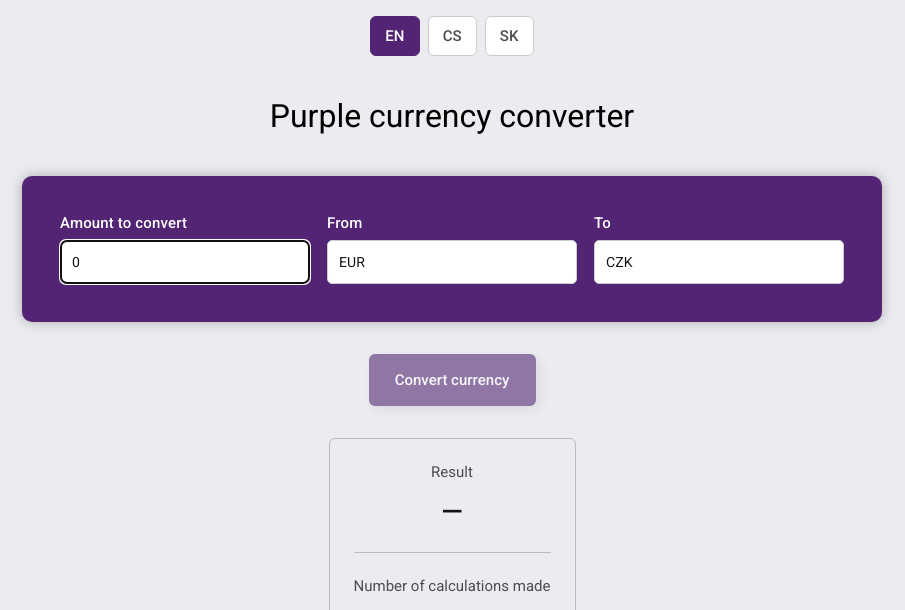
it: the in-flight announcement and the error placements (§10) › renders an upstream failure as the page-level banner — OUTSIDE the form
This screenshot has width=905, height=610.
Step 1. Type "100" into the field labelled "Amount to convert" → x=185, y=262, box [60,240,310,284]
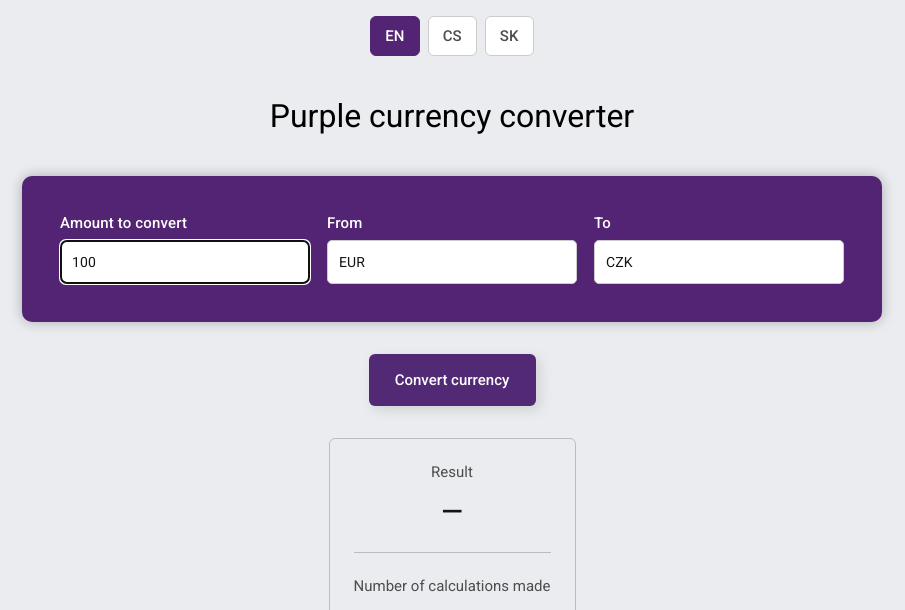
Step 2. Click the button "Convert currency" → x=452, y=380, box [368,354,536,406]
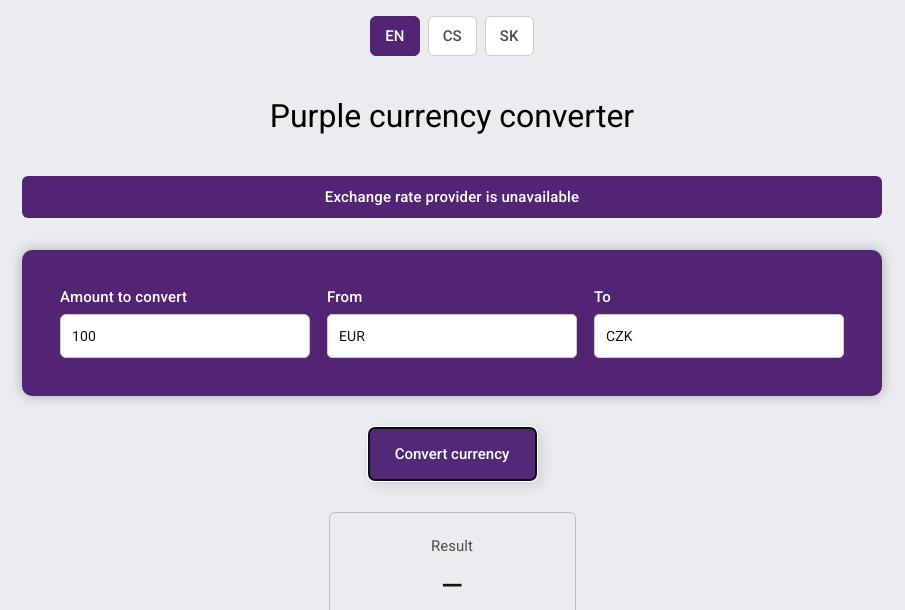
Expected: the message reads "Exchange rate provider is unavailable", [325,188,579,206]
